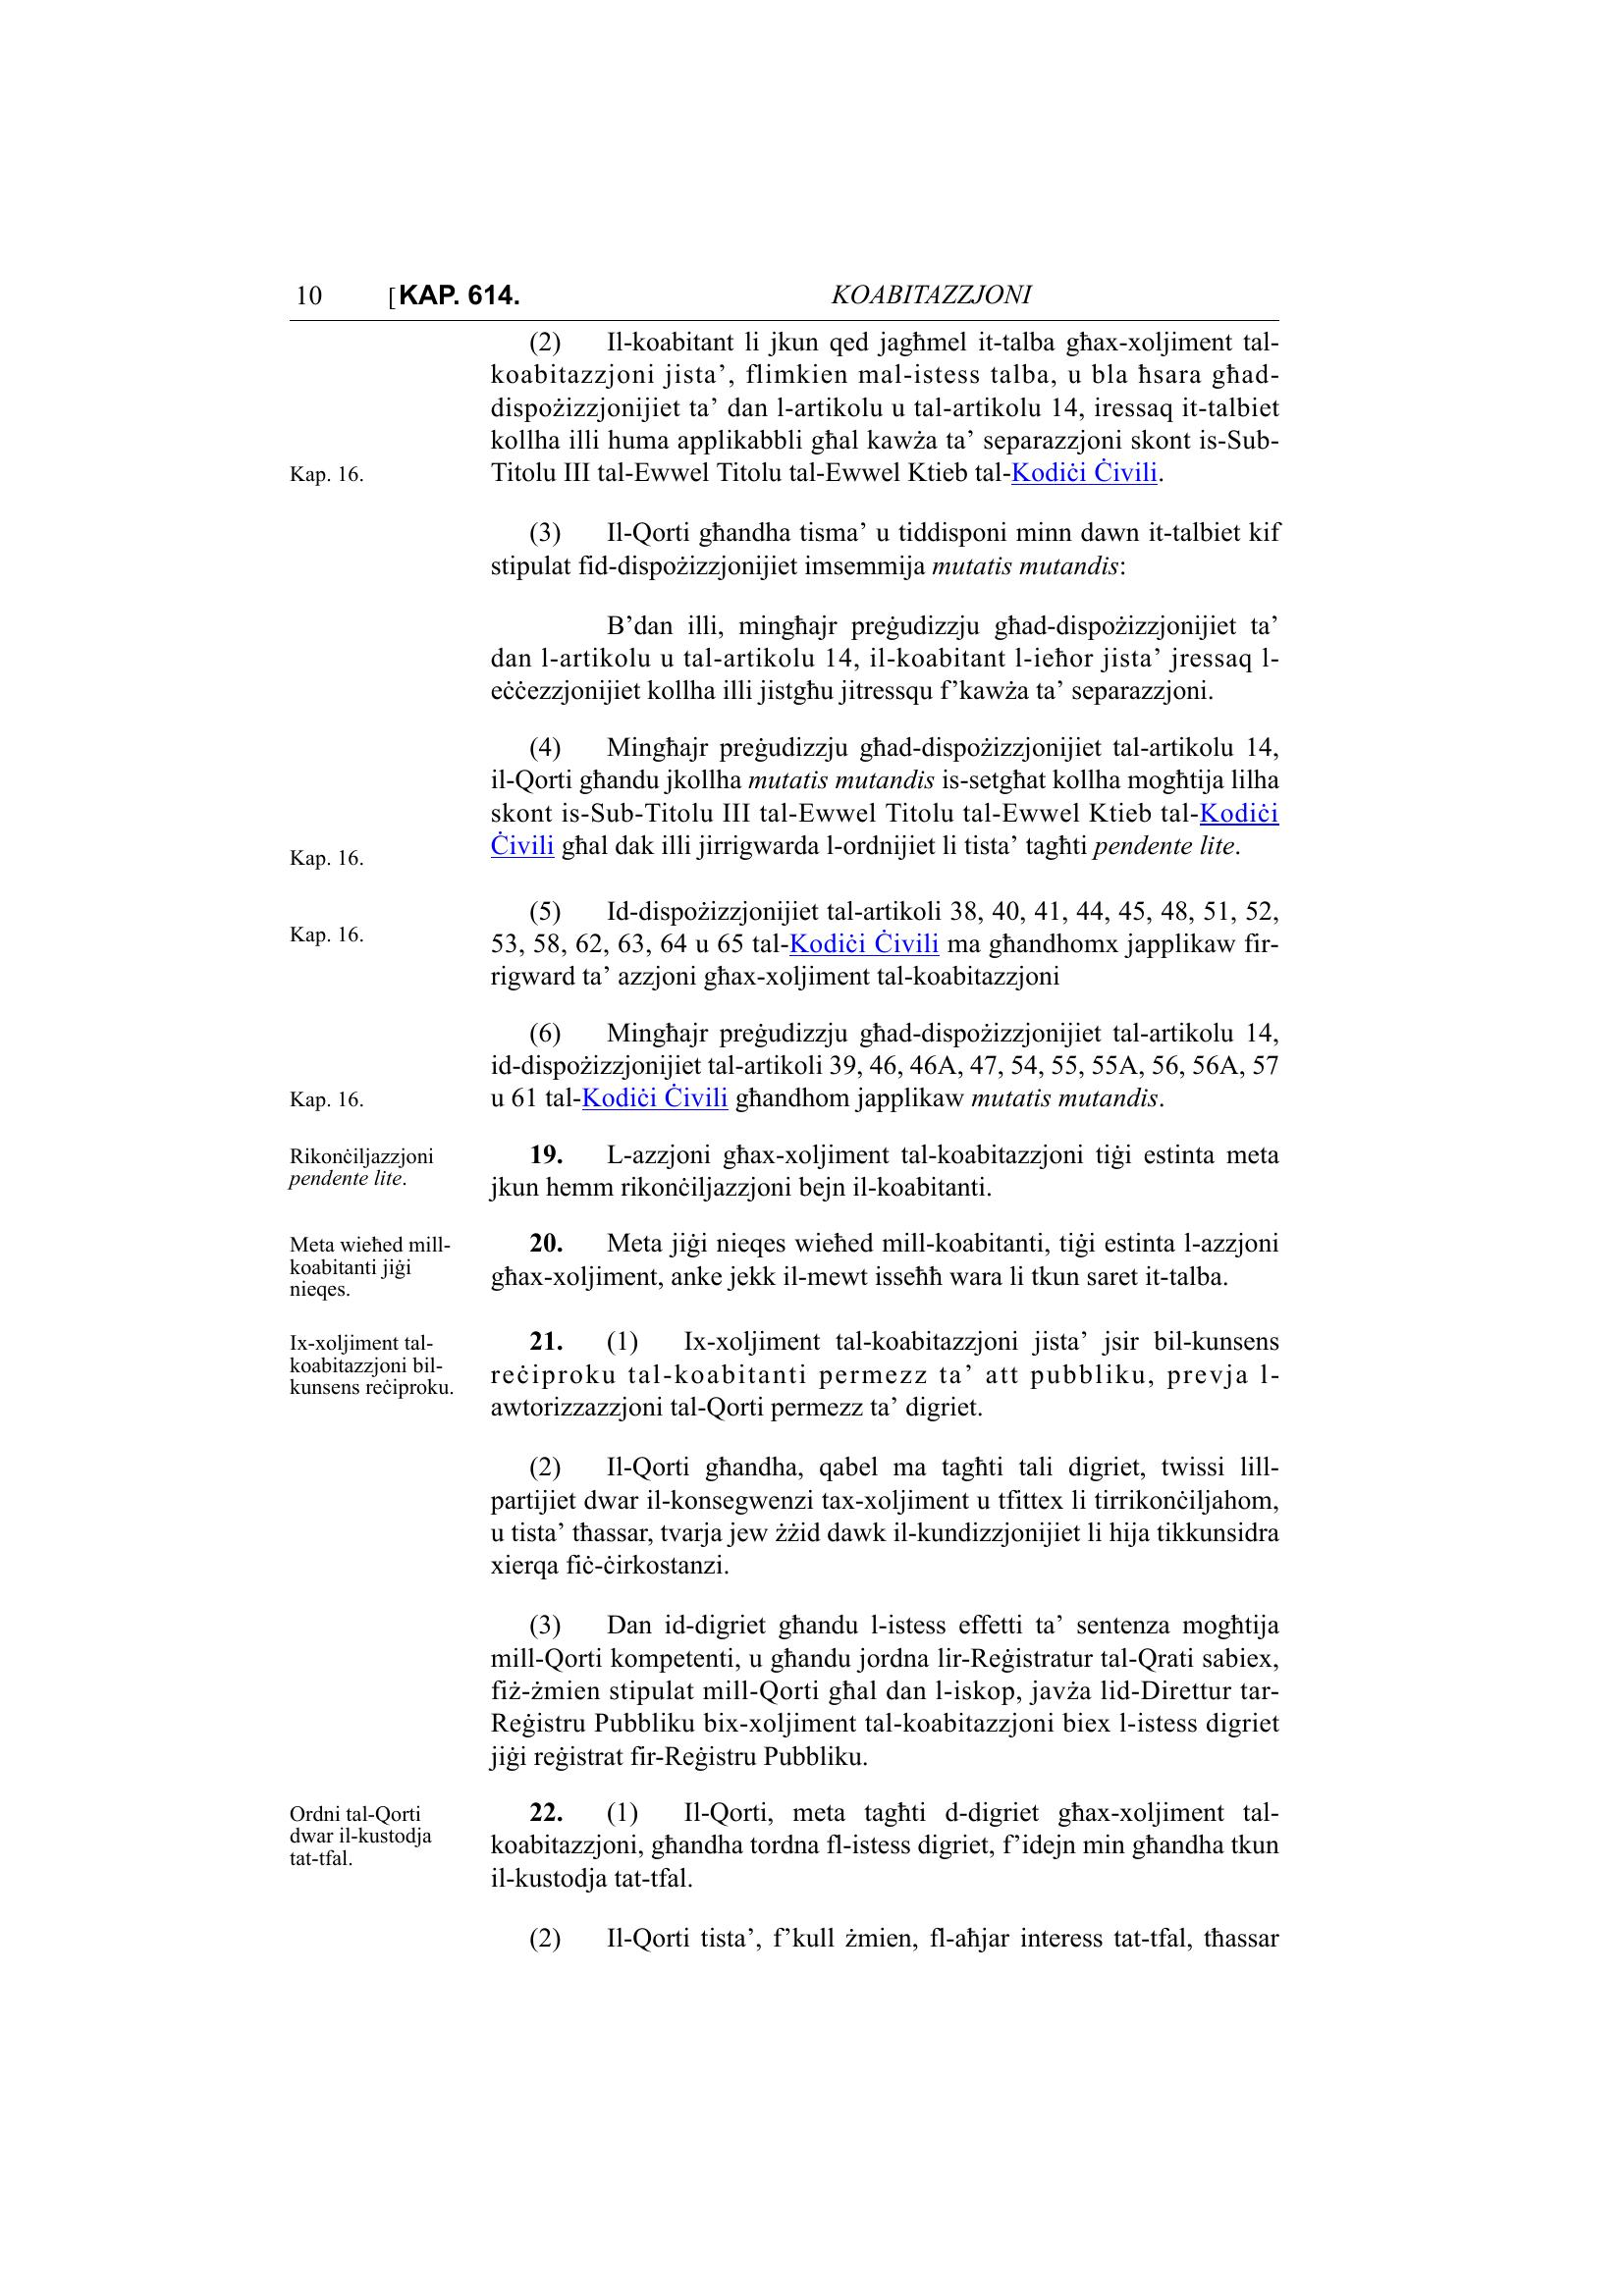text: (468, 327, 1292, 1973)
